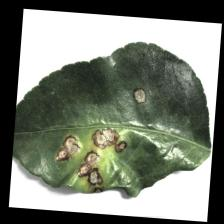canker: (42, 85, 150, 193)
